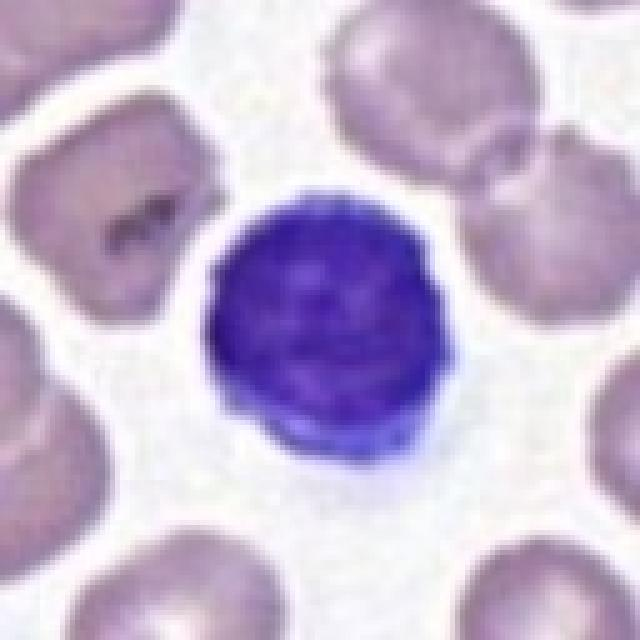lympho: (190, 175, 467, 473)
